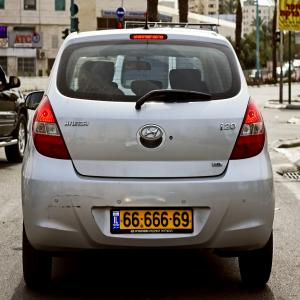Vehicle-registration-plate: (111, 209, 195, 234)
